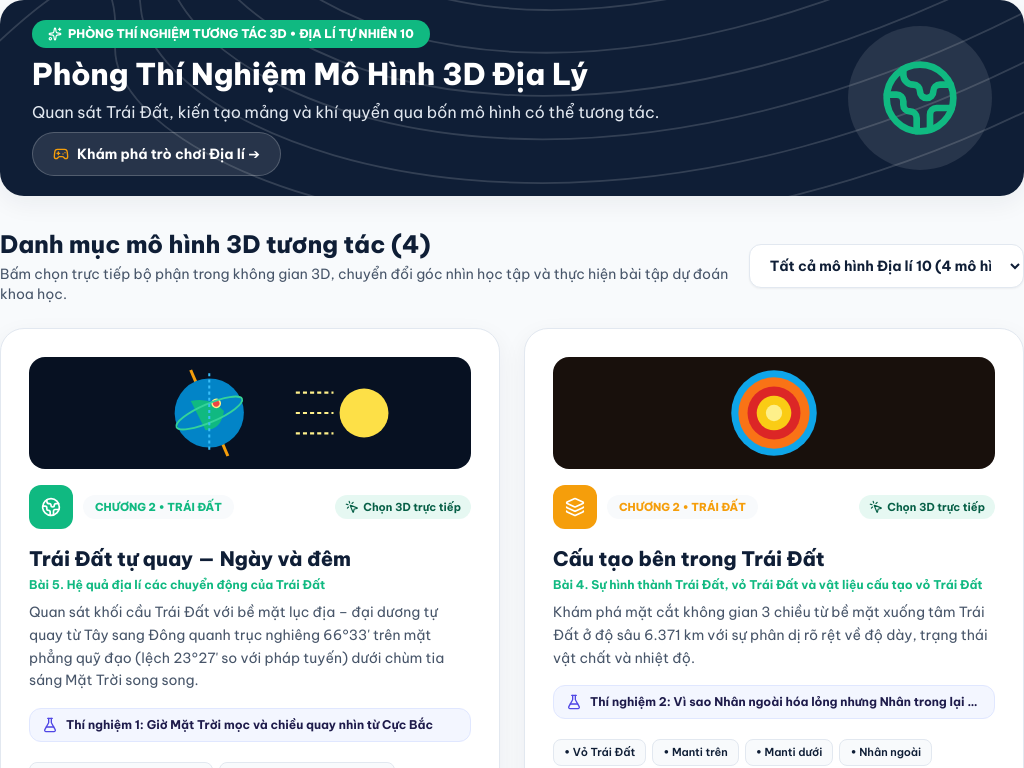
Scenario: StudentGamesPage & StudentLab3DPage UI Integration › renders 3D Lab Hub with 4 scientific models and filters by chapter
Select "Chương 4: Khí quyển" in the dropdown with id "lab3d-chapter-filter" at {"x": 886, "y": 266}, box [749,244,1023,288]
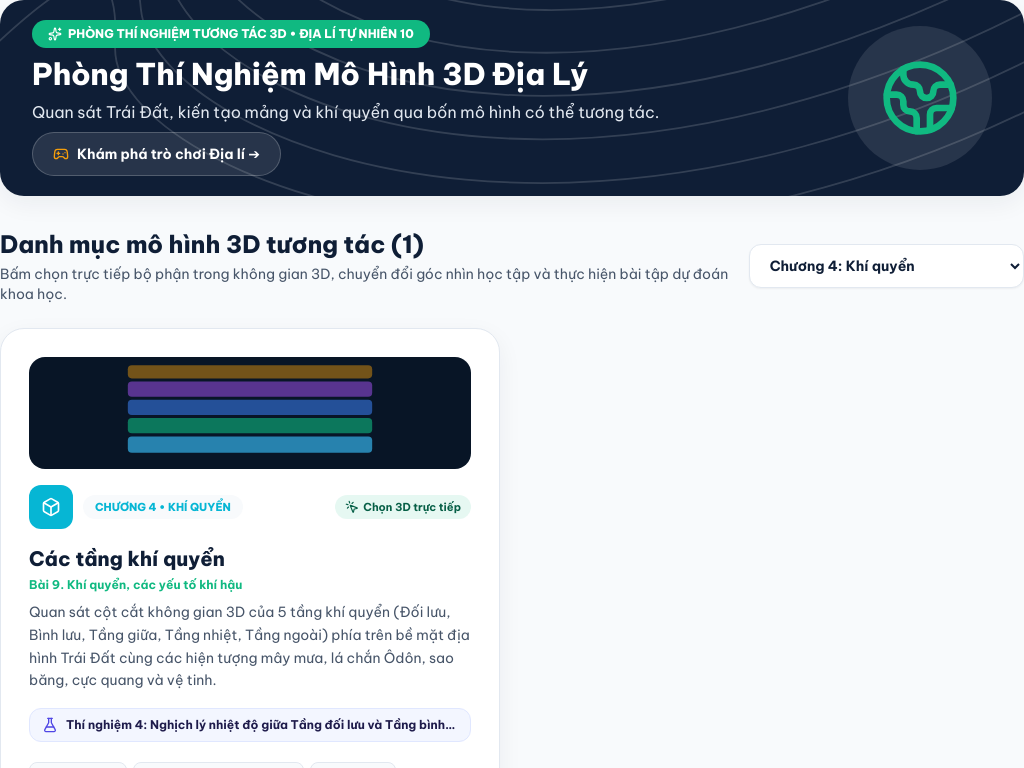
Expected: the text "Các tầng khí quyển" is shown, [29,546,225,571]
Now the text "Cấu tạo bên trong Trái Đất" is gone
